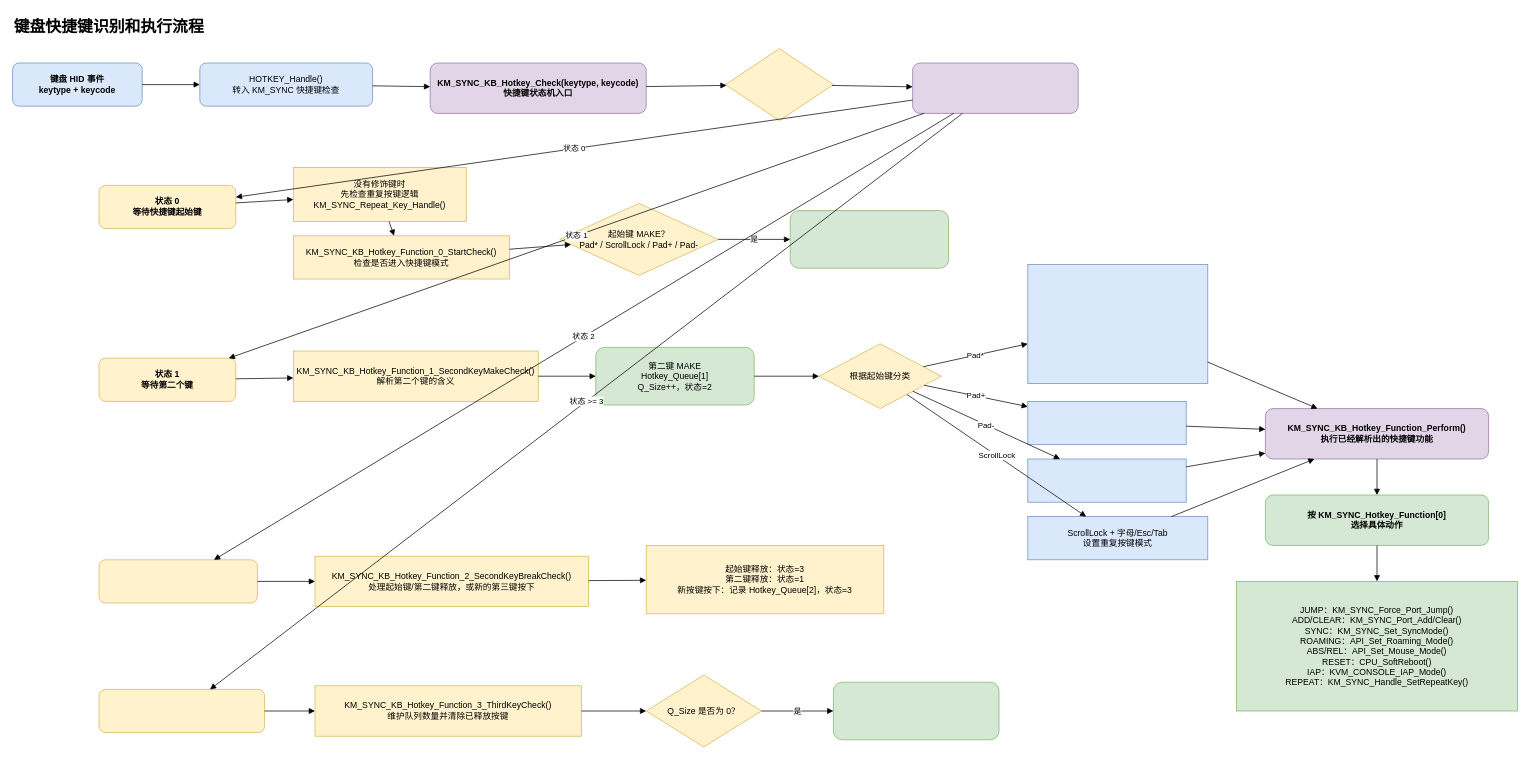
Some shapes in this 1530 by 760 pixel diagram are drawn without their labels. The centre of each missing label's shape, as x and y in pixels:
"KM_SYNC_KB_Hotkey_Clear() 状态回到 0 清空功能参数" belongs at point 916,710.
"Pad* 命令组 Pad1..4：强制跳端口 O：四屏漫游 S：单屏漫游 Pad0：同步模式 F9/F10：绝对/相对鼠标 F11：软重启 M：映射表 2" belongs at point 1117,323.
"Pad+ + Pad1..4 添加同步端口" belongs at point 1106,423.
"Pad- + Pad1..4 清除同步端口" belongs at point 1106,480.
"按状态索引分发 KM_SYNC_Sync_KB_HotkeyInx" belongs at point 995,87.
"是否修饰键？ 0xe0..0xe7" belongs at point 779,84.
"状态 2 等待按键释放或第三键" belongs at point 177,581.
"状态 >= 3 等待剩余按键释放并清理" belongs at point 181,711.
"记录起始键 Hotkey_Queue[0] Q_Size=1，状态=1" belongs at point 869,239.
